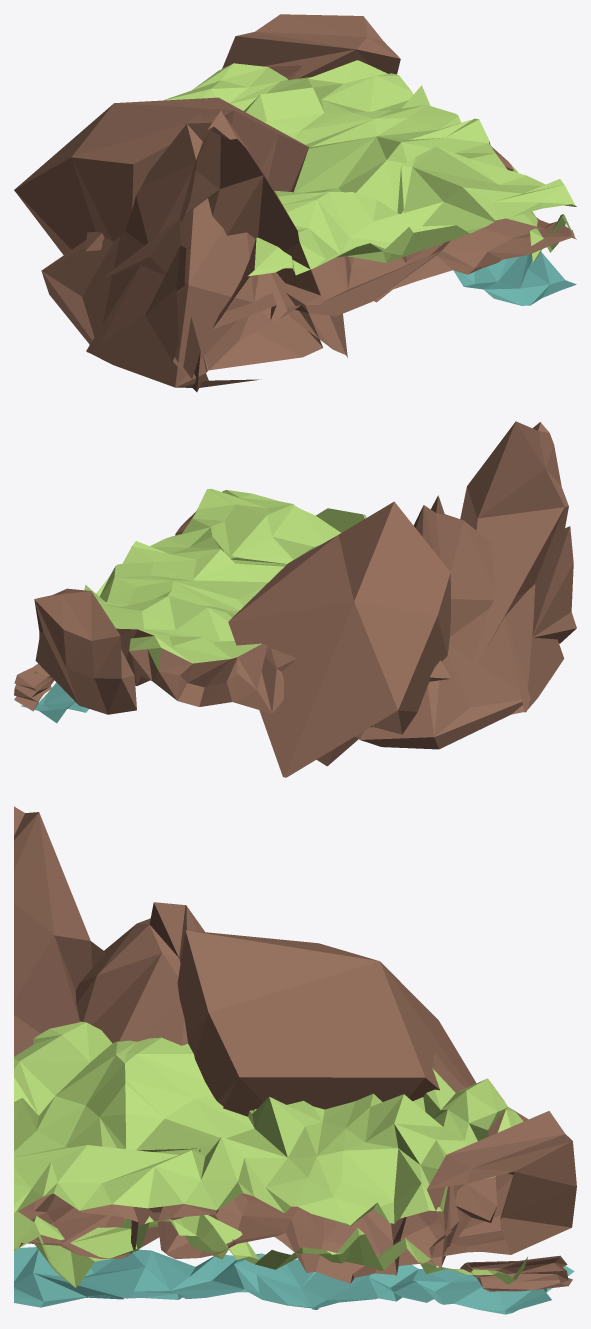
File: RG_Terrain-Mesh-03.fbx
3 views of the same model, one above another, from view 1: azimuth 30°, elevation 25°; view 2: azimuth 150°, elevation 25°; view 3: azimuth 270°, elevation 25° (orthographic). The views are drawn at different scales.
Visible parts, largest first — view 1: RG_Terrain-Mesh-03; view 2: RG_Terrain-Mesh-03; view 3: RG_Terrain-Mesh-03.
Part boxes in pixels (x1=…): RG_Terrain-Mesh-03: x1=14, y1=14, x2=576, y2=391; RG_Terrain-Mesh-03: x1=14, y1=421, x2=576, y2=777; RG_Terrain-Mesh-03: x1=14, y1=806, x2=576, y2=1314.
Bounding box in the file's own units: 140 × 86.17 × 140.
